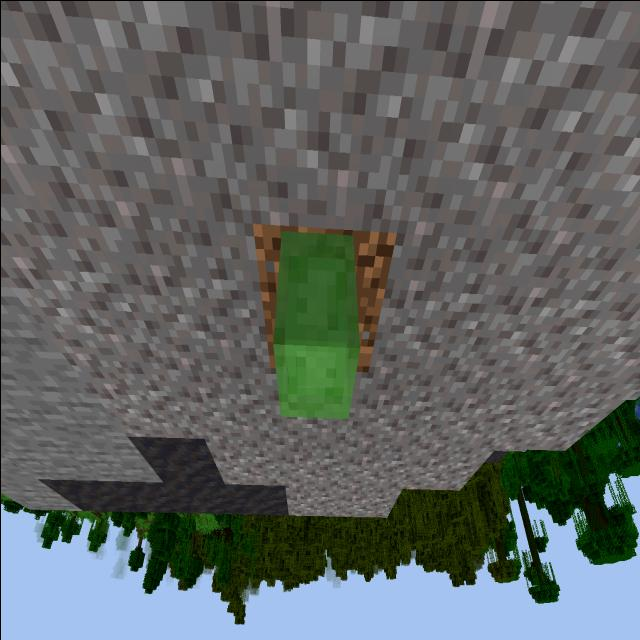Slime: (265, 204, 372, 434)
